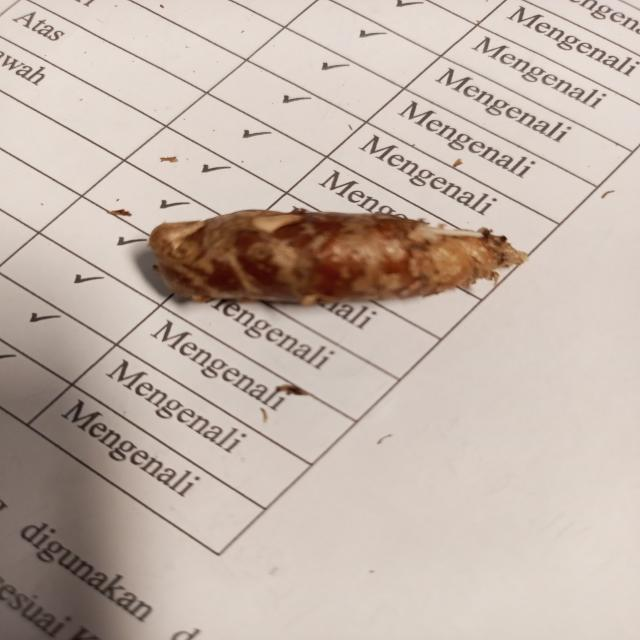ginger: (152, 205, 504, 295)
